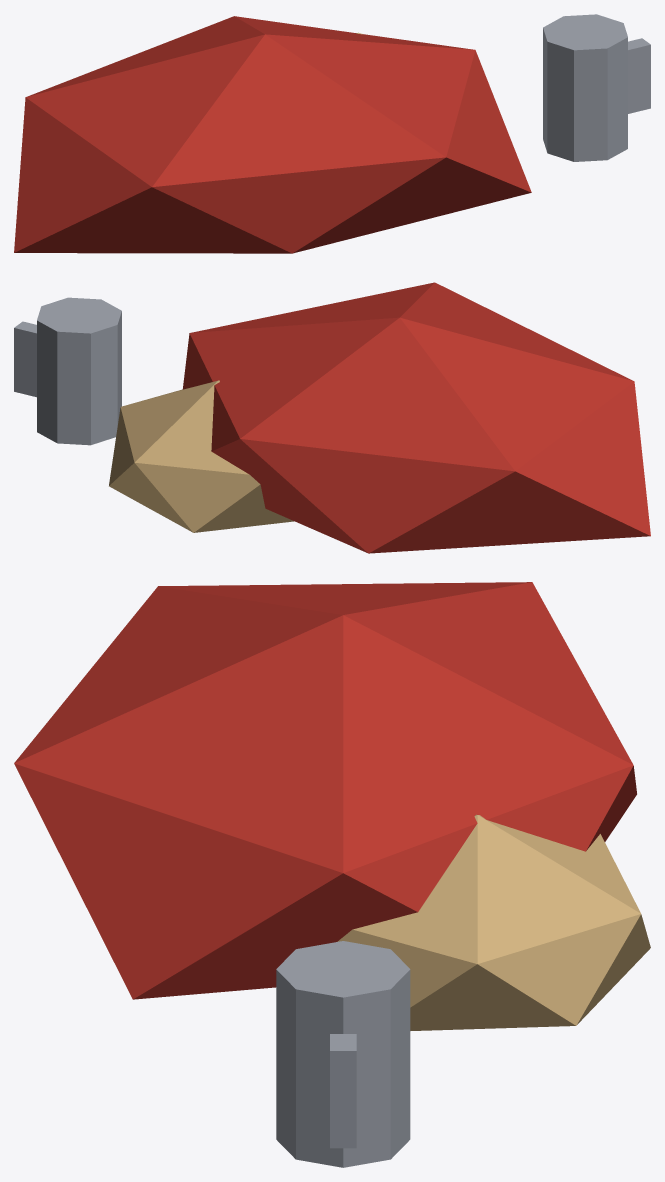
Rendered from Cloth_And_Mug.fbx.
The picture shows the model from 3 angles, top to bottom: view 1: azimuth 30°, elevation 25°; view 2: azimuth 150°, elevation 25°; view 3: azimuth 270°, elevation 25°; orthographic projection. The views are drawn at different scales.
Visible parts, largest first — view 1: Cloth_And_Mug; view 2: Cloth_And_Mug; view 3: Cloth_And_Mug.
Part boxes in pixels (x1,y1,x2,y2): Cloth_And_Mug: (14,14,650,253); Cloth_And_Mug: (14,282,650,553); Cloth_And_Mug: (14,582,650,1167).
Bounding box in the file's own units: 0.8292 × 0.2581 × 0.4747.
